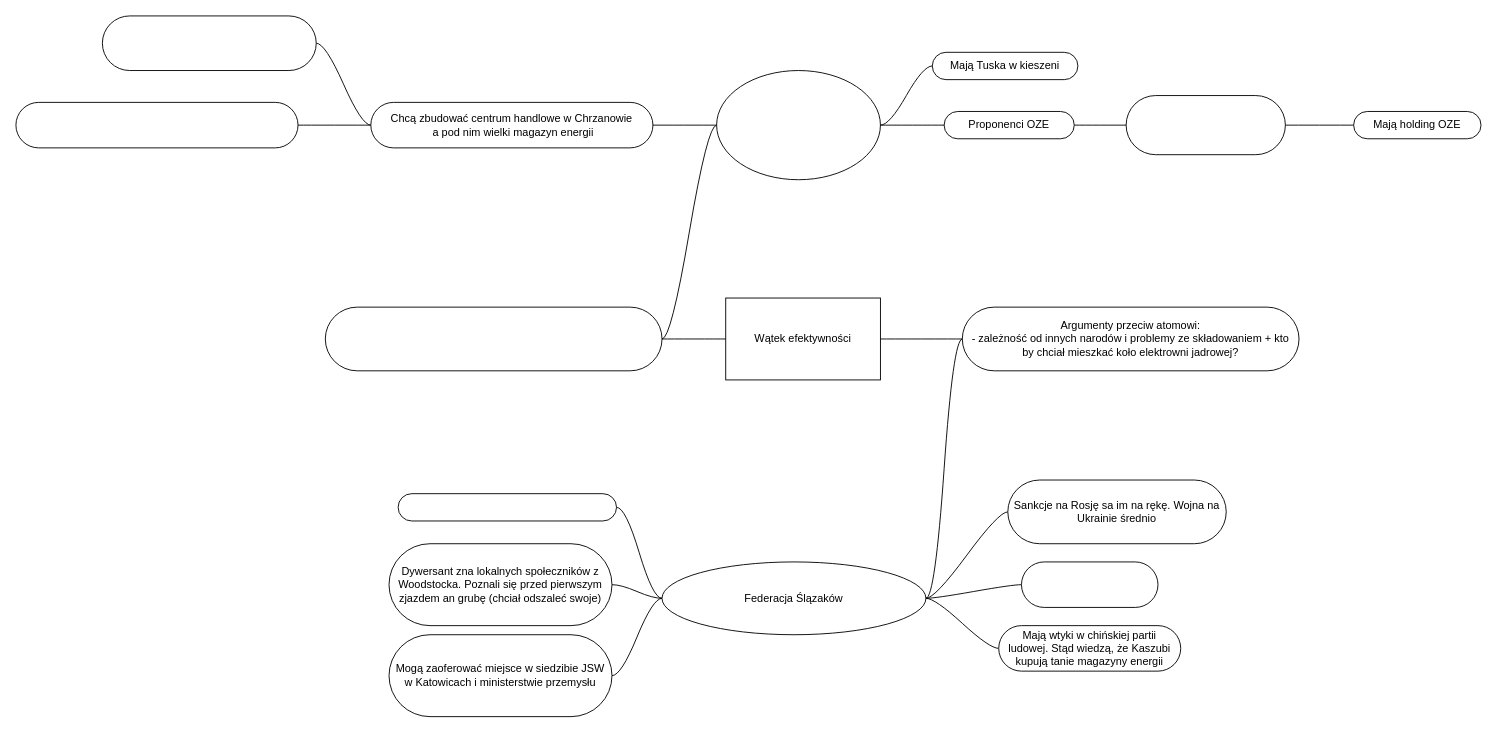
Image size: 1497x733. Some labels were removed from this diagram. Here are the shapes that lost their labels. From the top down, the centre of each, then its label:
[208,43]: To spowoduje dalszy upadek węgla i znaczenia Ślązaków
[798,125]: Walka ze Ślązakami
[1205,125]: Razem z Kulczykami budują farmę wiatrową we Władysławowie
[493,338]: Obrazek z internetu + efektywność na wyższych obrotach
[507,507]: Federacja od fedrowania
[1089,584]: Próbowali z Budką i Morawieckim zepsuć prym Kaszubów
